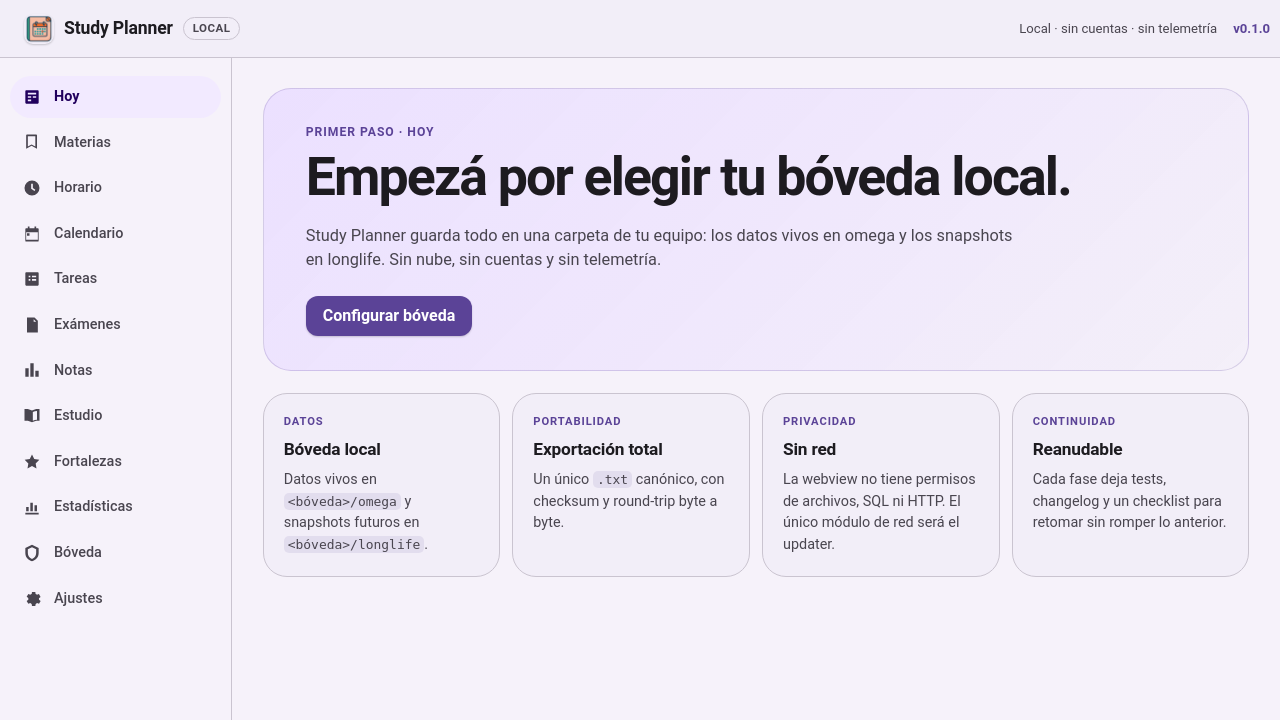
Test: App con IPC de Tauri › habilita el updater en un AppImage aunque no haya bóveda
The image size is (1280, 720).
Click the button "Ajustes" at coordinates (116, 598), box [10, 578, 221, 619]
(page scrolled)
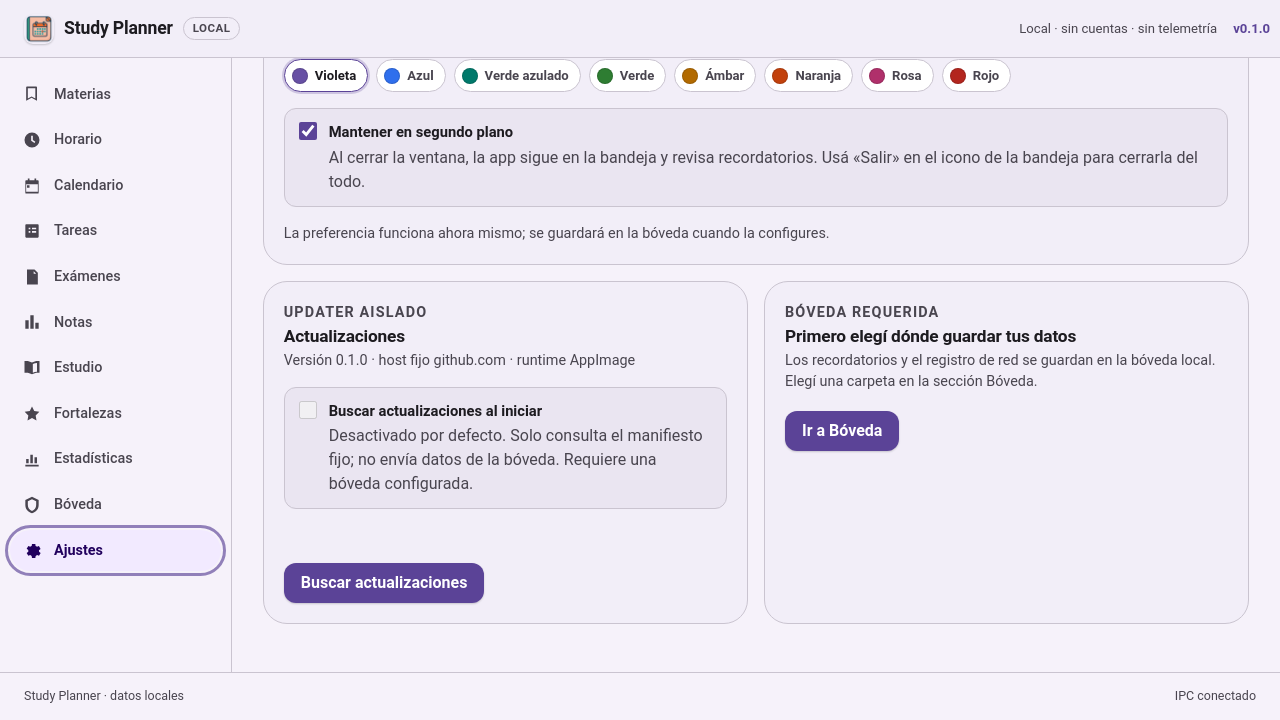
Result: the button "Buscar actualizaciones" is enabled at [284, 563, 484, 603]
